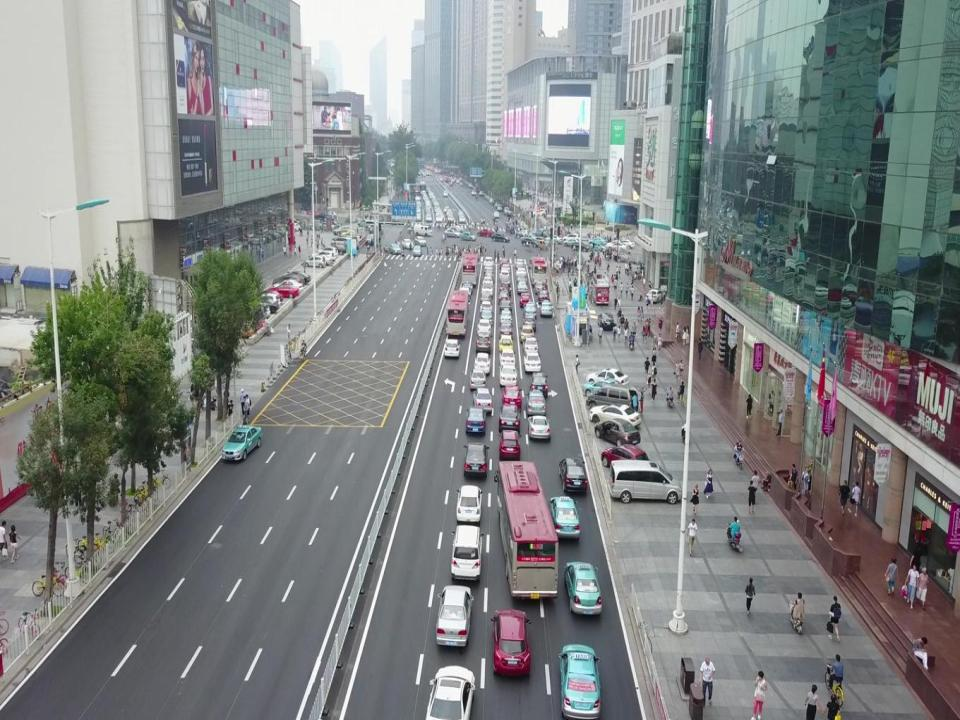bus: (494, 461, 558, 600), (445, 289, 468, 336), (460, 253, 480, 288), (528, 256, 548, 287)
car: (558, 644, 602, 720), (423, 664, 477, 720), (490, 609, 530, 678), (434, 584, 474, 647), (564, 561, 602, 615), (601, 444, 652, 474), (588, 402, 642, 430), (221, 426, 262, 462), (548, 496, 580, 540), (594, 419, 641, 448), (558, 458, 588, 494), (582, 375, 625, 400), (456, 486, 484, 522), (463, 443, 490, 476), (585, 368, 628, 388), (498, 402, 520, 436), (498, 429, 521, 461), (526, 414, 552, 441), (471, 387, 494, 415), (501, 384, 523, 412), (465, 406, 487, 434), (266, 282, 300, 300), (524, 390, 546, 417), (528, 371, 548, 399), (272, 272, 304, 289), (251, 291, 282, 308), (248, 296, 280, 312), (498, 364, 519, 387), (474, 350, 493, 375), (270, 278, 302, 292), (474, 331, 494, 352), (522, 351, 542, 372), (469, 368, 486, 392), (283, 270, 311, 284), (499, 347, 516, 366), (444, 338, 460, 358), (519, 324, 535, 344), (522, 301, 538, 319), (476, 318, 492, 335), (498, 333, 513, 351), (522, 312, 537, 330), (522, 337, 538, 353), (499, 319, 513, 336), (478, 300, 492, 316), (498, 298, 514, 312), (480, 308, 493, 324), (480, 282, 493, 298), (540, 304, 553, 319), (500, 307, 512, 323), (498, 288, 510, 304), (534, 280, 546, 296), (460, 279, 473, 292), (479, 293, 493, 305), (540, 296, 552, 310), (538, 289, 550, 303), (500, 280, 511, 295), (519, 290, 529, 306), (518, 278, 528, 294), (480, 276, 492, 288), (514, 266, 526, 278), (484, 267, 495, 280), (499, 267, 510, 280), (514, 257, 526, 268), (482, 256, 493, 267), (515, 272, 527, 282), (499, 263, 510, 273), (483, 263, 493, 272)
van: (608, 460, 682, 504), (450, 524, 484, 582), (585, 383, 646, 412)
